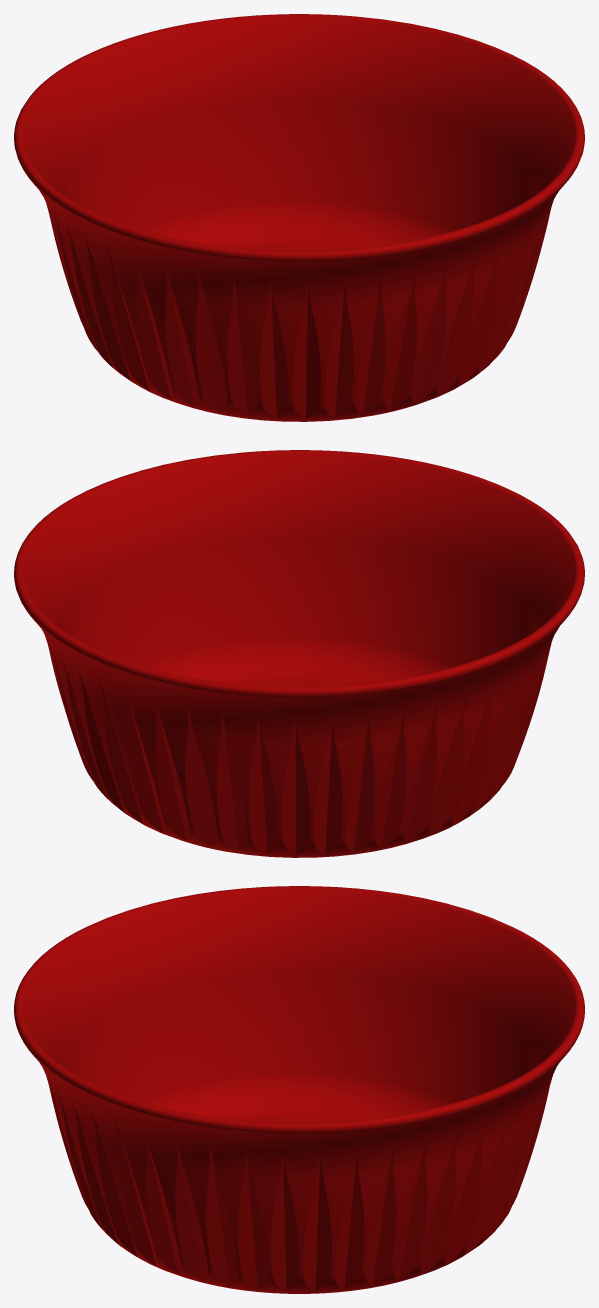
Rendered from BowCom1.glb.
3 views of the same model, one above another, from view 1: azimuth 30°, elevation 25°; view 2: azimuth 150°, elevation 25°; view 3: azimuth 270°, elevation 25° (orthographic).
Size of the model in its own units: 0.124 by 0.0513 by 0.124.
